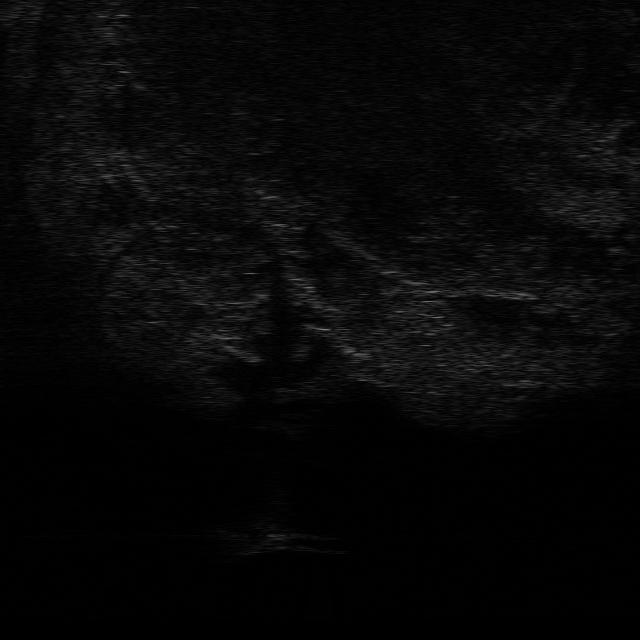plane: (214, 520, 346, 560)
